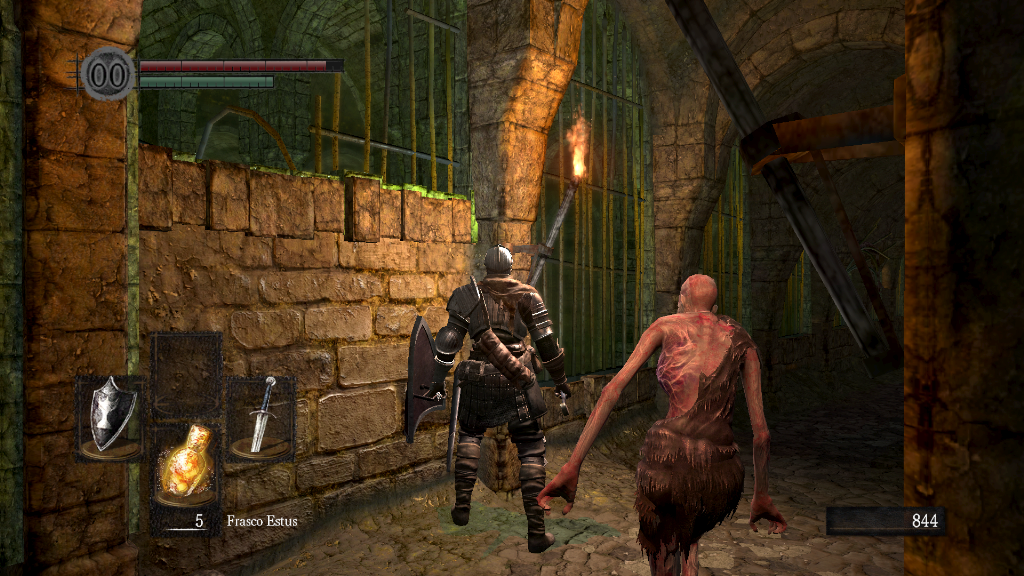health: (138, 58, 343, 71)
hollow: (537, 274, 789, 576)
humanity: (80, 45, 136, 102)
player: (403, 243, 572, 554)
souls: (825, 506, 945, 536)
stamina: (138, 74, 274, 88)
